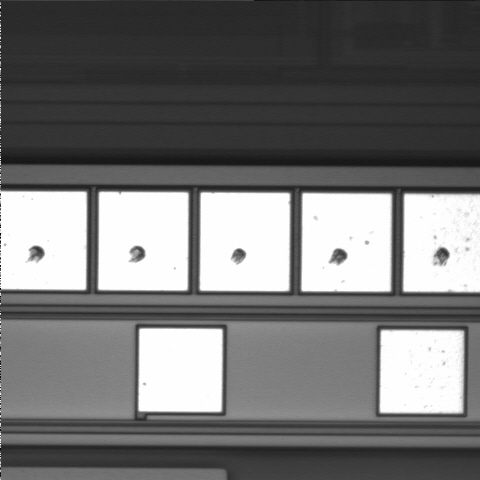pad: (98, 192, 188, 290), (200, 193, 290, 291), (302, 193, 391, 292), (139, 329, 222, 412), (380, 330, 463, 413)
